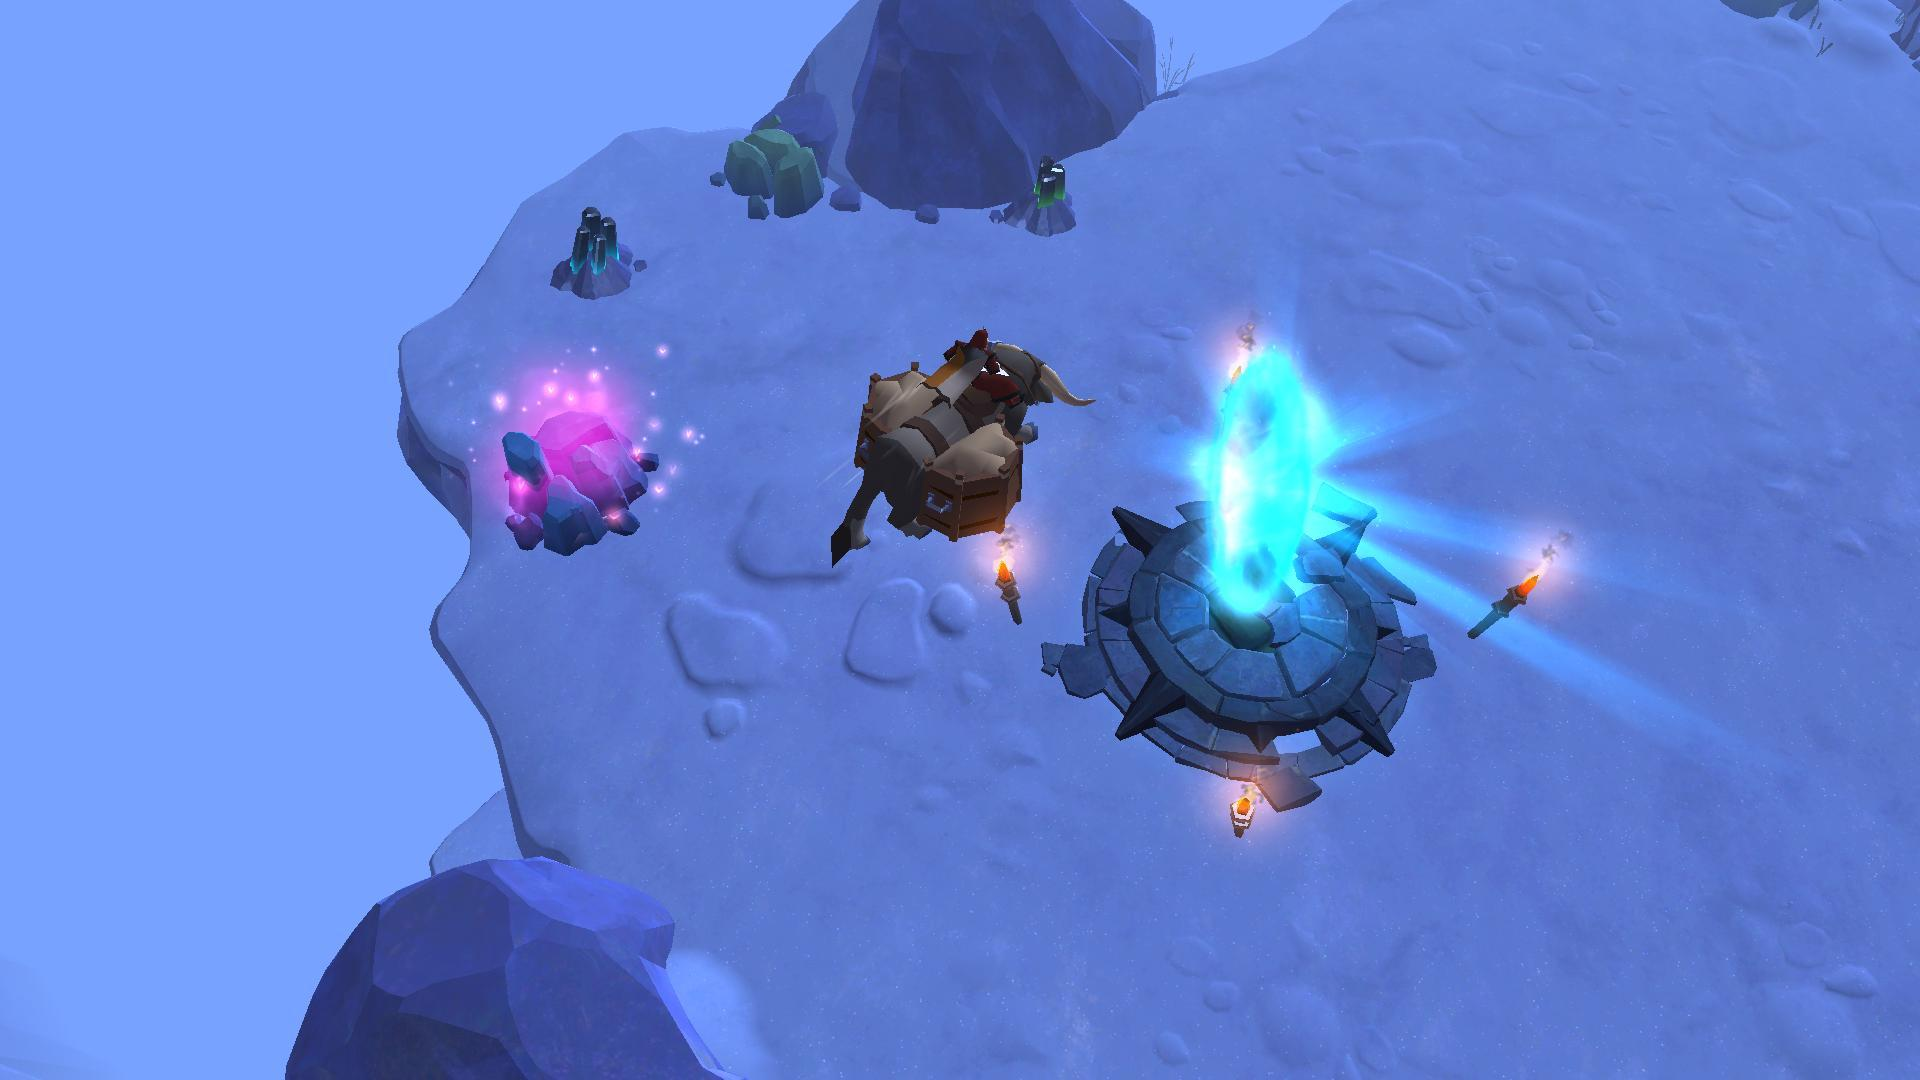ore_t3: (1031, 148, 1071, 203)
ore_t4: (562, 203, 620, 277)
rock_t3: (705, 99, 832, 228)
rock_t4: (497, 409, 659, 556)
